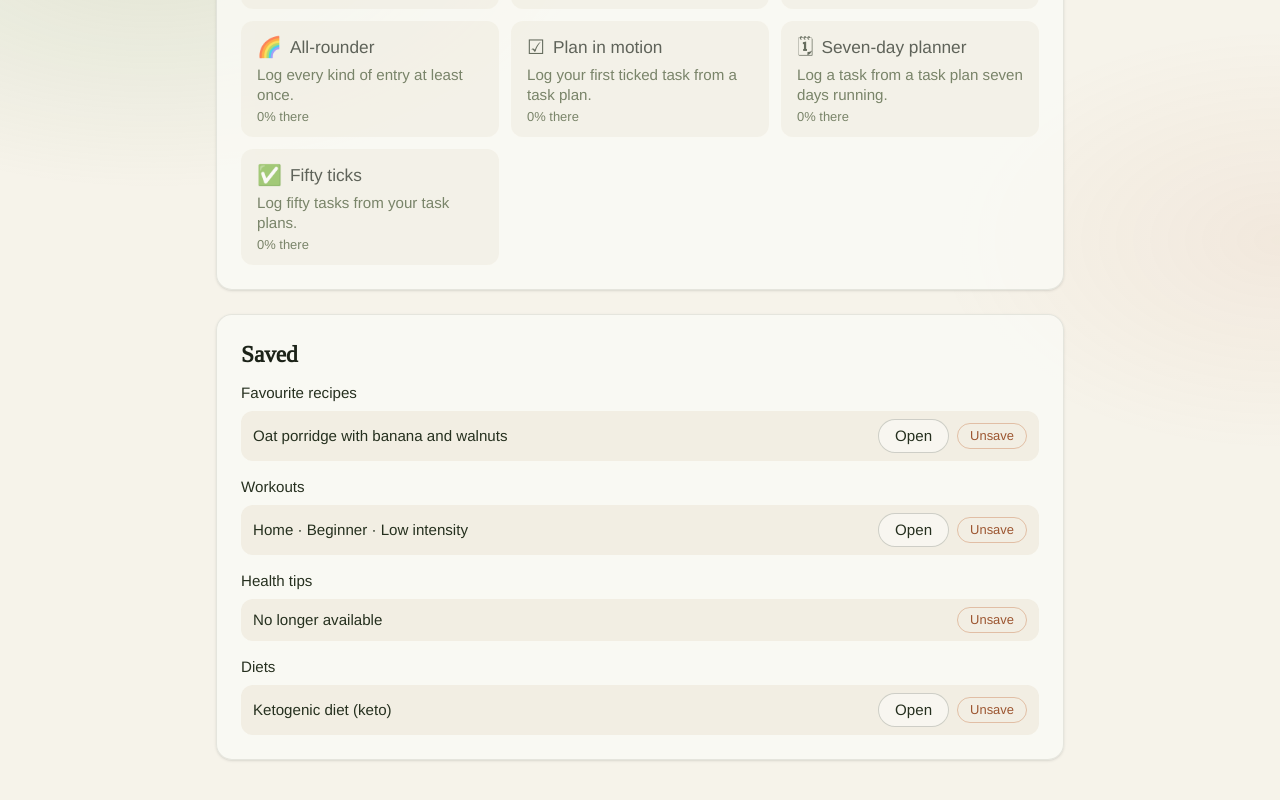
Test: <ProfilePage> — saved › lists favourite recipes and saved items by kind with Open links, and unsaves
(page scrolled)
expect the text "Oat porridge with banana and walnuts" is shown: met, box top-left (253, 426), bottom-right (508, 446)
expect the text "No longer available" is shown: met, box top-left (253, 610), bottom-right (382, 630)
Click the button "Unsave" in the row of "Ketogenic diet (keto)" at (992,710), box top-left (957, 697), bottom-right (1027, 723)
(page scrolled)
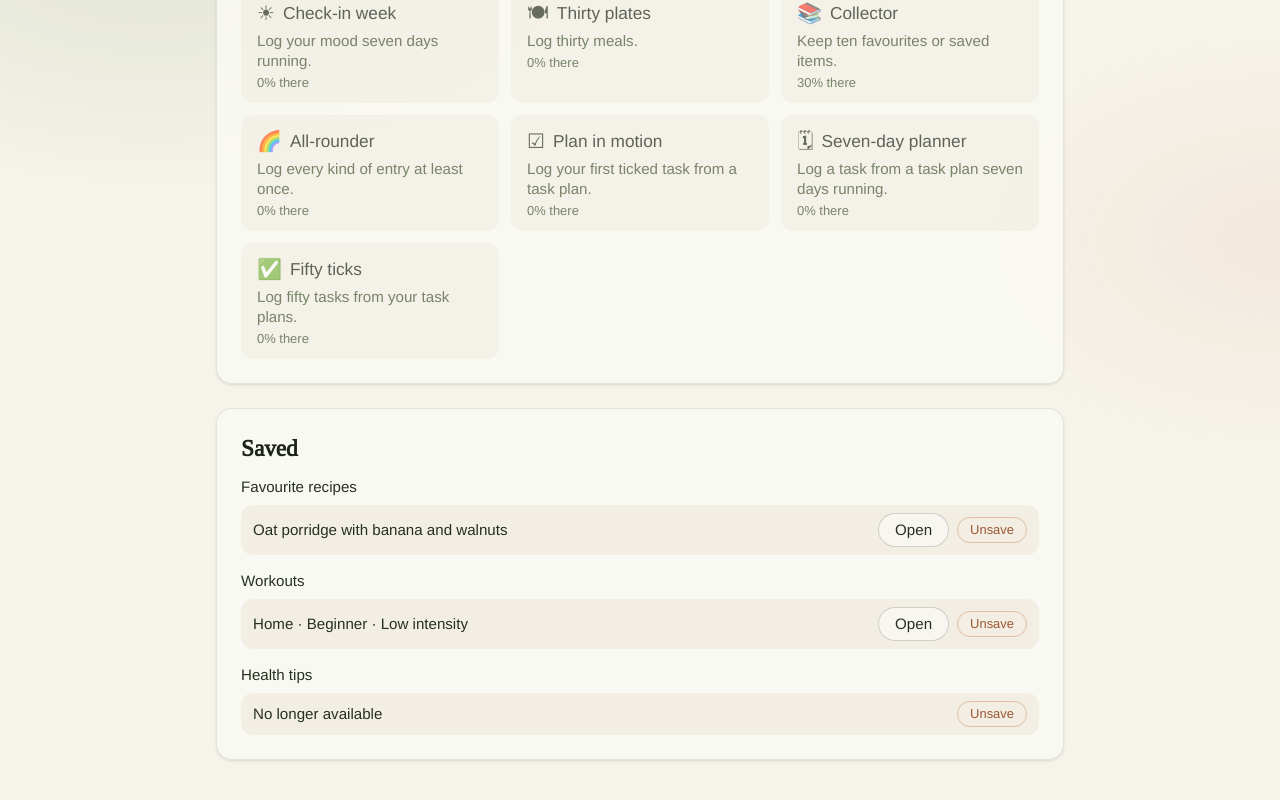
expect the heading "Diets" is gone: met
Click the button "Unsave" in the row of "Oat porridge with banana and walnuts" at (992,530), box top-left (957, 517), bottom-right (1027, 543)
(page scrolled)
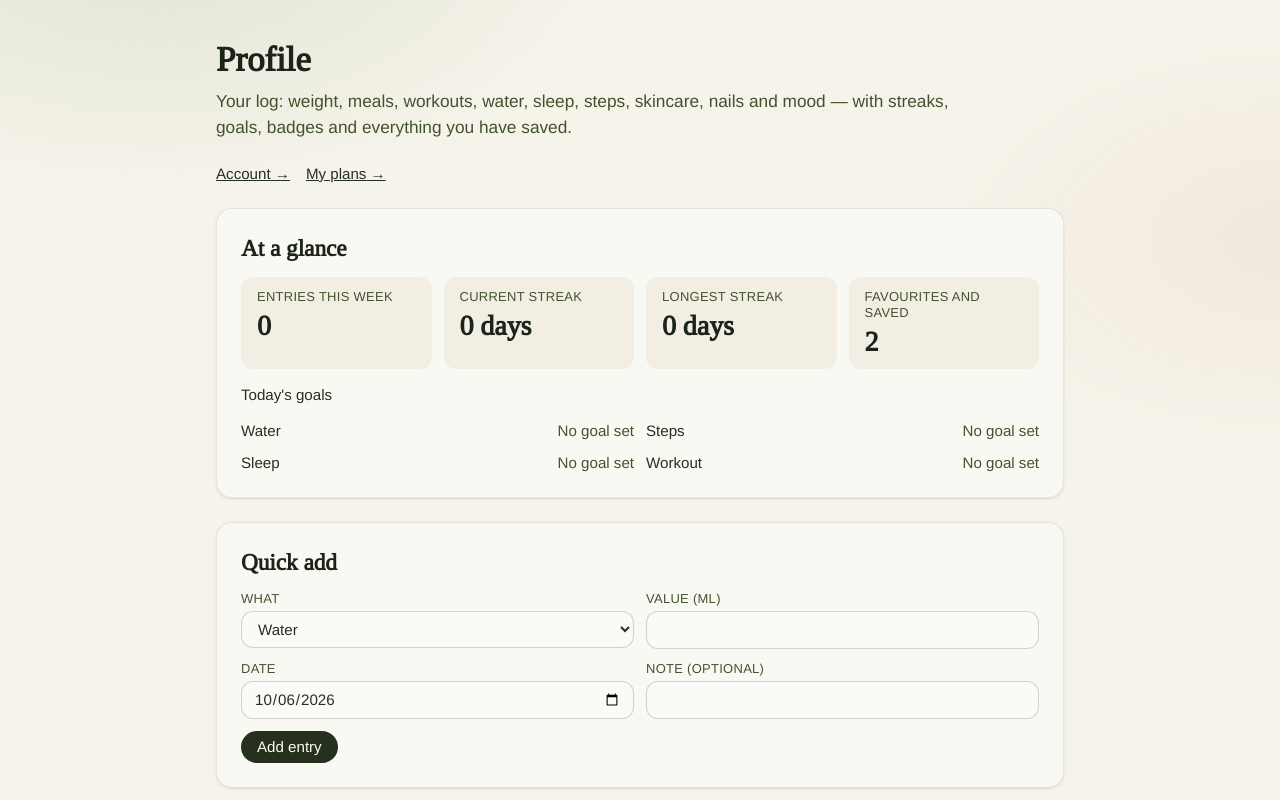
expect the text "2" is shown: met, box top-left (864, 323), bottom-right (878, 358)
